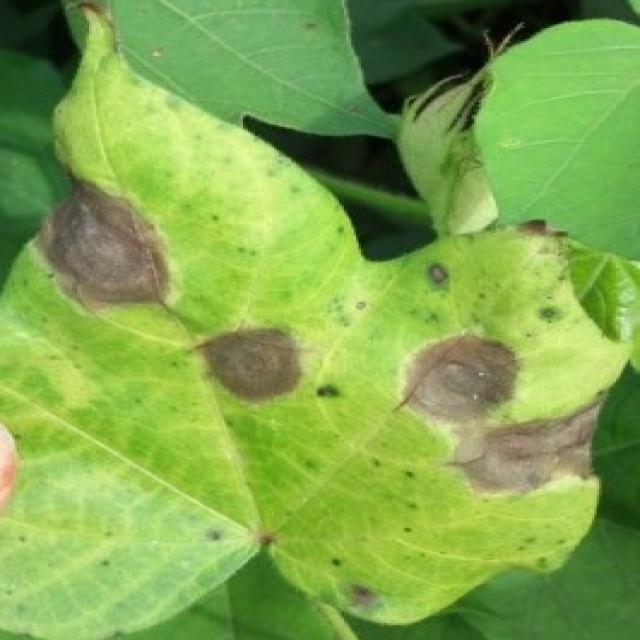Cotton Ball Rot: (387, 329, 527, 430), (188, 321, 310, 409)
